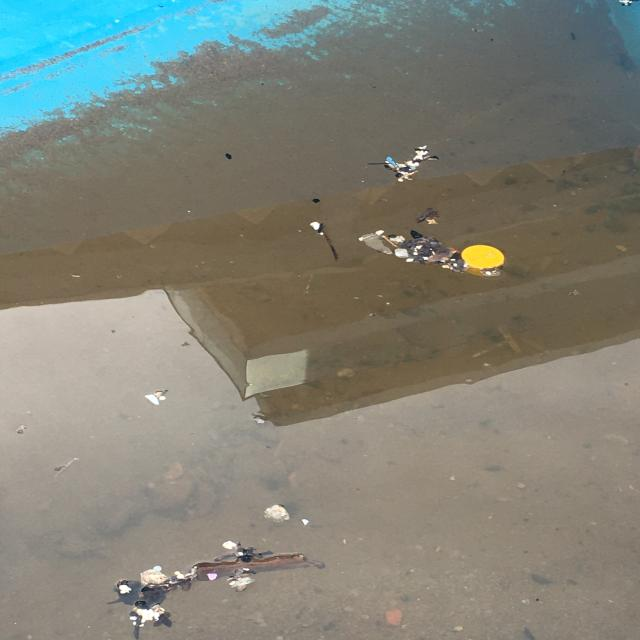Bottle cap: (459, 239, 507, 280)
Undefined trash: (100, 537, 334, 640), (280, 203, 468, 276)
Wood: (189, 552, 325, 584)
